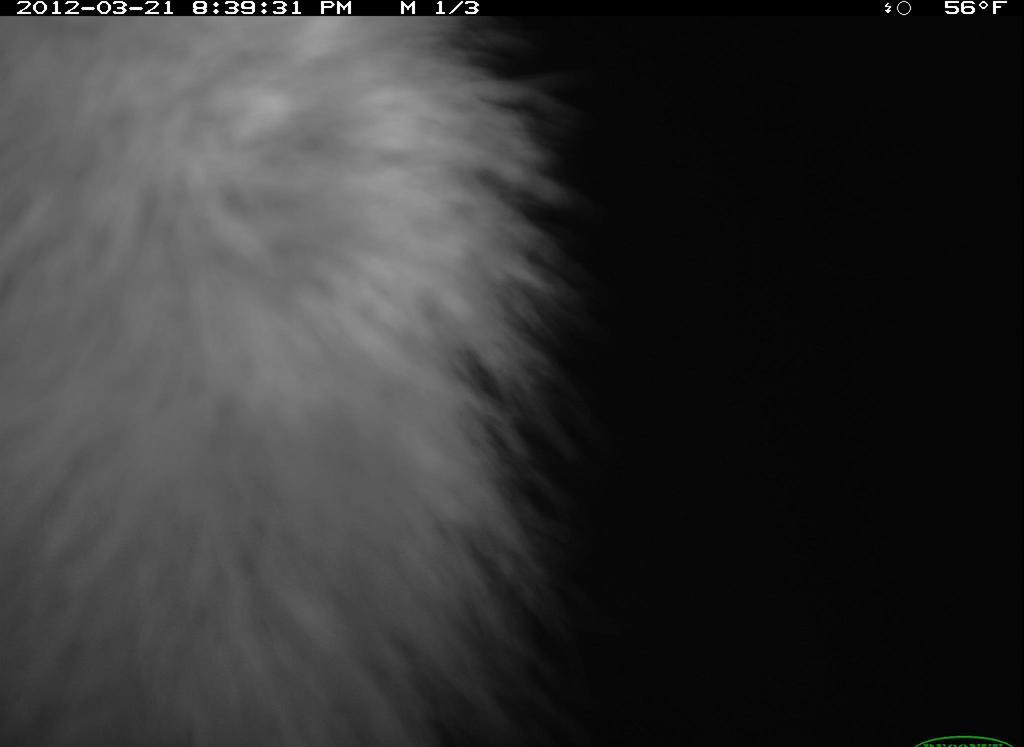coyote: (3, 12, 591, 744)
